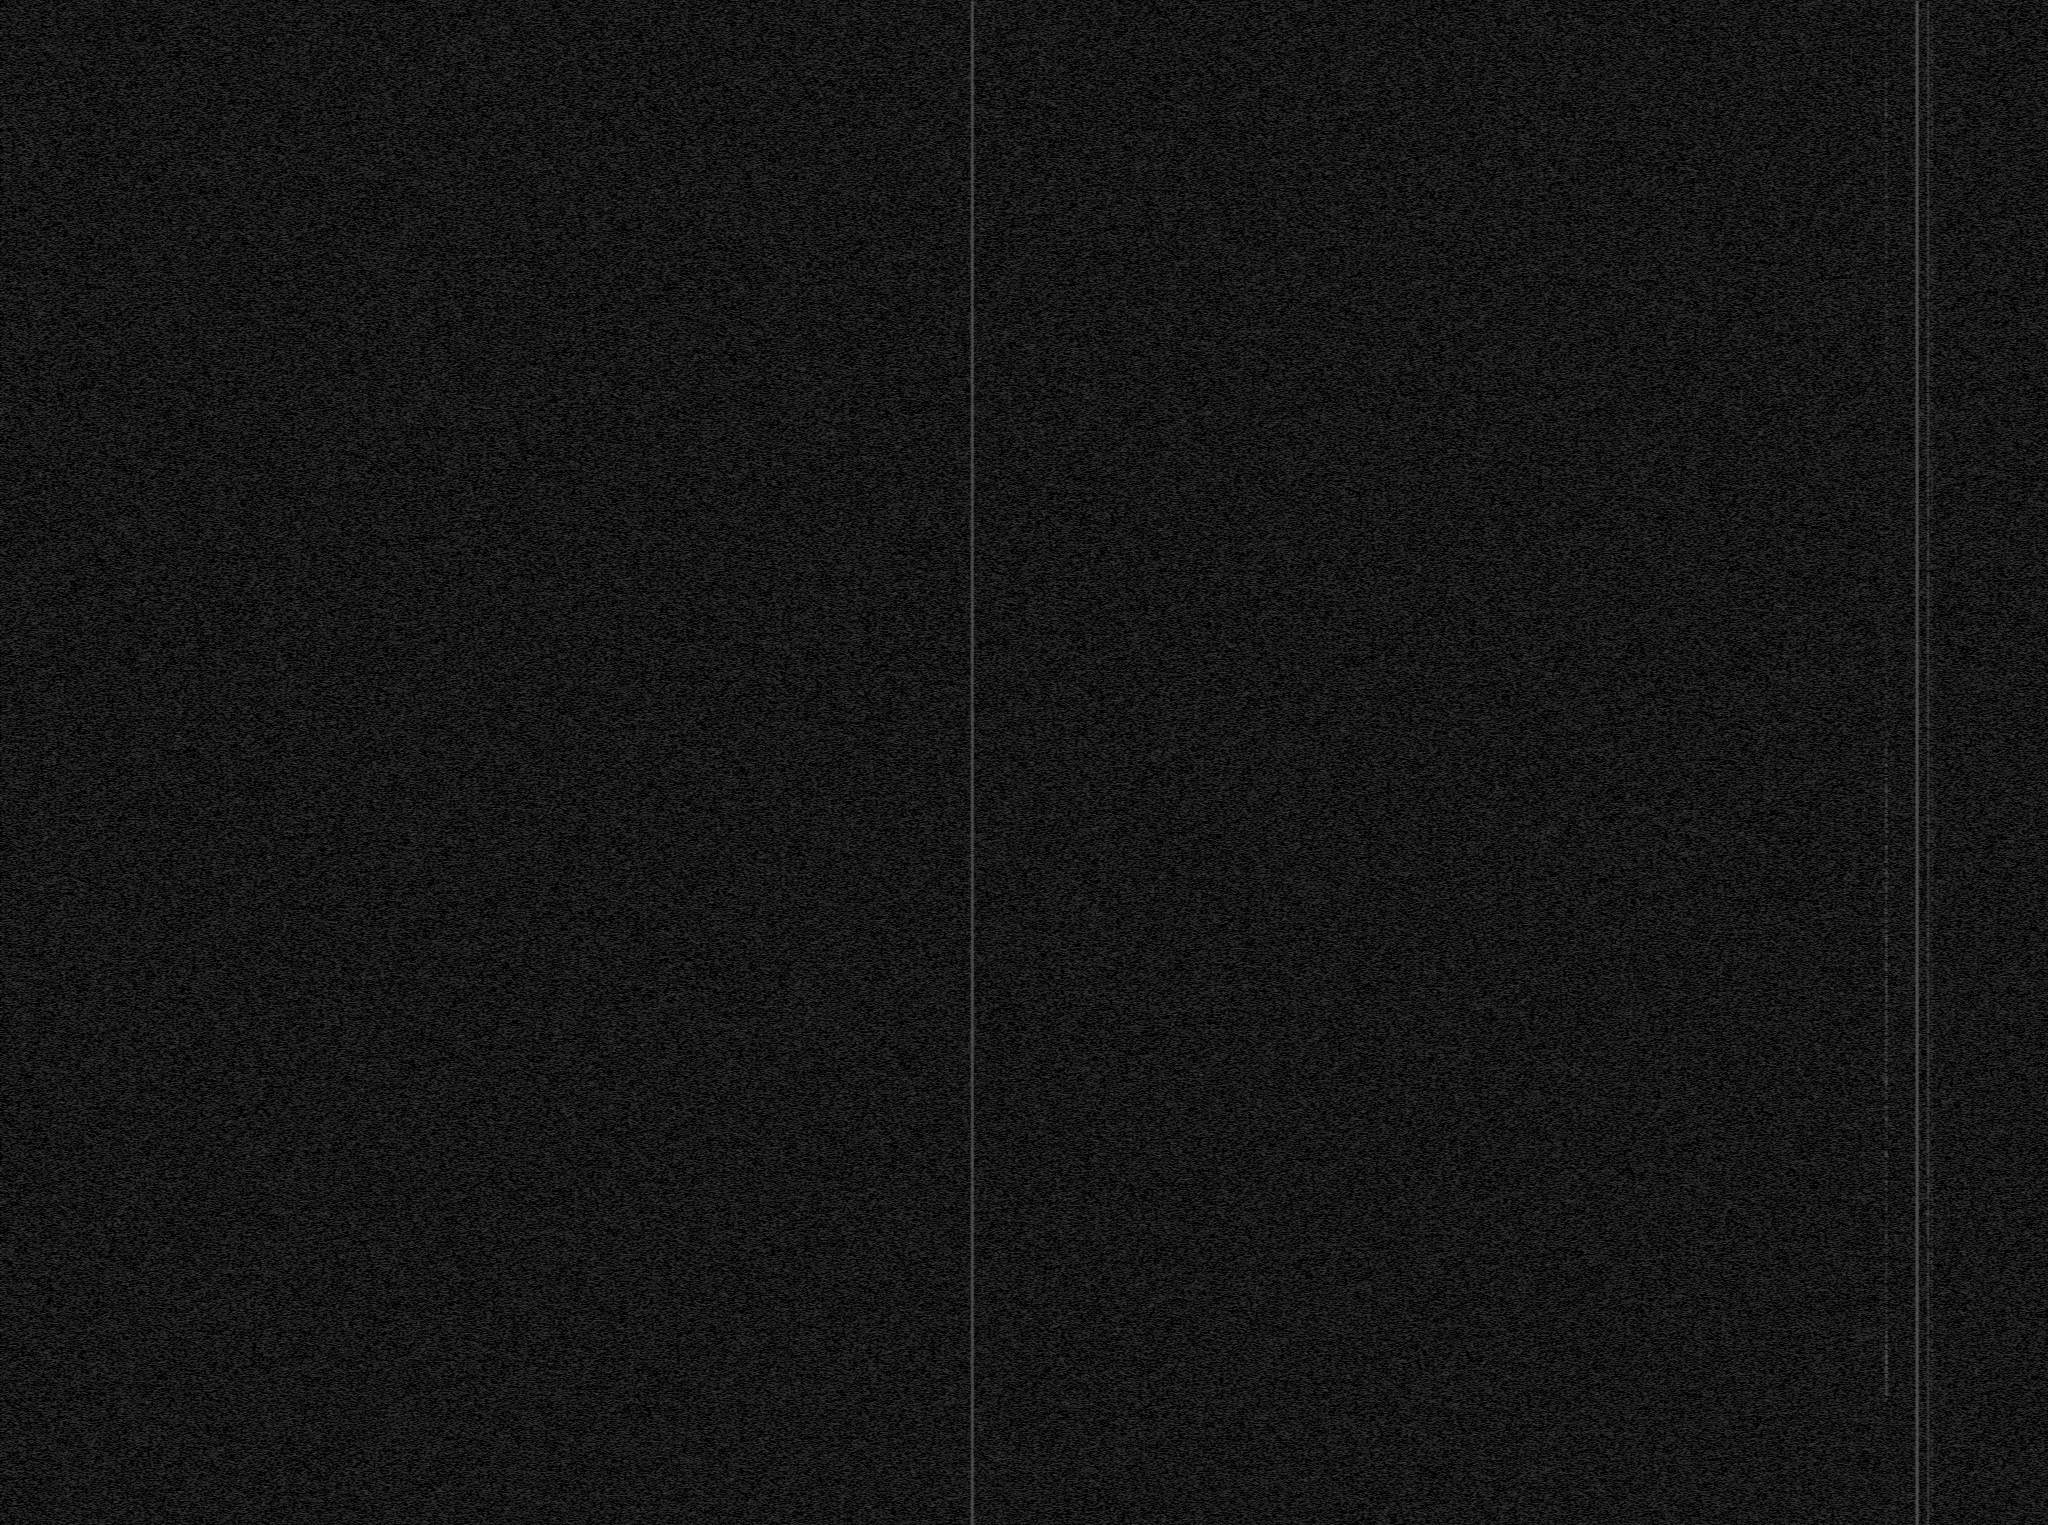wv_am: (1926, 2, 1931, 1525)
wv_cw: (1913, 0, 1920, 1525), (970, 0, 975, 1525)
wv_lsb: (1930, 13, 1934, 162), (1930, 288, 1934, 412), (1930, 445, 1934, 511), (1930, 1349, 1934, 1398), (1930, 1213, 1934, 1262), (1930, 775, 1934, 823), (1930, 1302, 1934, 1349), (1930, 964, 1934, 1011), (1930, 593, 1934, 631), (1930, 1405, 1934, 1442), (1930, 1032, 1934, 1065), (1930, 838, 1934, 871), (1930, 633, 1934, 666), (1930, 175, 1934, 208), (1930, 746, 1934, 774), (1930, 1467, 1934, 1493), (1930, 1076, 1934, 1100), (1930, 1443, 1934, 1466), (1930, 1280, 1934, 1302), (1930, 1145, 1934, 1168), (1930, 940, 1934, 963), (1930, 666, 1934, 689), (1930, 513, 1934, 535), (1930, 210, 1934, 232), (1930, 1185, 1934, 1206), (1930, 871, 1934, 892), (1930, 412, 1934, 433), (1930, 1118, 1934, 1137), (1930, 1011, 1934, 1030), (1930, 549, 1934, 569), (1930, 1501, 1934, 1515), (1930, 1264, 1934, 1278), (1930, 1169, 1934, 1184), (1930, 1102, 1934, 1117), (1930, 730, 1934, 745), (1930, 706, 1934, 721), (1930, 245, 1934, 260), (1930, 570, 1934, 583), (1930, 825, 1934, 836), (1930, 434, 1934, 445), (1930, 268, 1934, 279), (1930, 232, 1934, 243), (1930, 931, 1934, 940), (1930, 905, 1934, 915), (1930, 894, 1934, 903), (1930, 163, 1934, 173), (1930, 1517, 1934, 1525), (1930, 1068, 1934, 1076), (1930, 697, 1934, 705), (1930, 585, 1934, 593), (1930, 540, 1934, 548), (1930, 279, 1934, 287), (1930, 919, 1934, 926), (1930, 722, 1934, 729), (1930, 1495, 1934, 1499), (1930, 1398, 1934, 1403), (1930, 1141, 1934, 1145), (1930, 690, 1934, 695), (1930, 261, 1934, 266), (1930, 1209, 1934, 1213), (1930, 927, 1933, 931)
wv_usb: (1885, 783, 1889, 1165), (1885, 119, 1889, 328), (1885, 1285, 1889, 1402), (1885, 1171, 1889, 1221), (1885, 740, 1889, 782), (1885, 650, 1888, 703), (1885, 509, 1888, 561), (1885, 705, 1889, 738), (1885, 330, 1889, 362), (1885, 1241, 1889, 1274), (1885, 26, 1888, 61), (1885, 364, 1888, 397), (1885, 1221, 1889, 1241), (1885, 1507, 1889, 1525), (1885, 408, 1888, 434), (1885, 90, 1889, 106), (1885, 610, 1888, 631), (1885, 490, 1888, 509), (1885, 106, 1889, 119), (1885, 62, 1888, 82), (1885, 578, 1888, 594), (1885, 594, 1888, 609), (1885, 562, 1888, 577), (1885, 633, 1888, 646), (1885, 1277, 1889, 1285), (1885, 8, 1889, 16), (1885, 397, 1888, 408), (1885, 453, 1888, 463), (1885, 82, 1889, 88), (1885, 473, 1888, 481), (1885, 465, 1888, 473), (1885, 436, 1888, 444), (1885, 18, 1888, 24), (1885, 484, 1888, 489), (1885, 1166, 1889, 1169), (1885, 449, 1888, 452)
